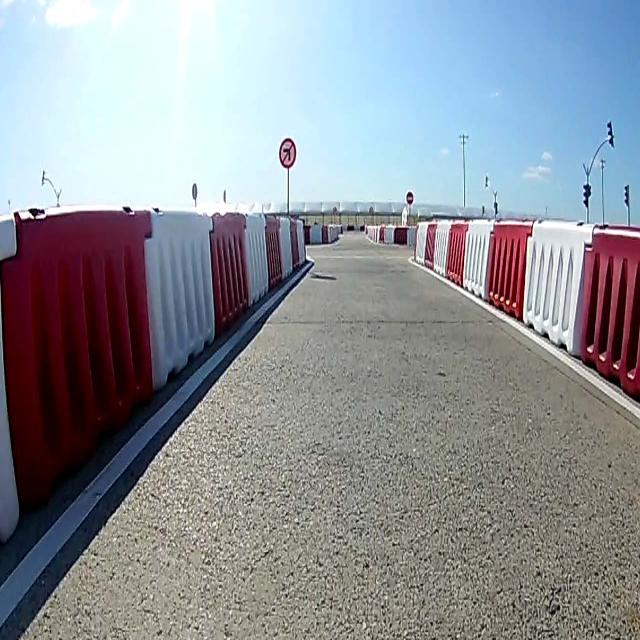girisyok: (406, 190, 414, 207)
soladonulmez: (278, 138, 296, 170)
